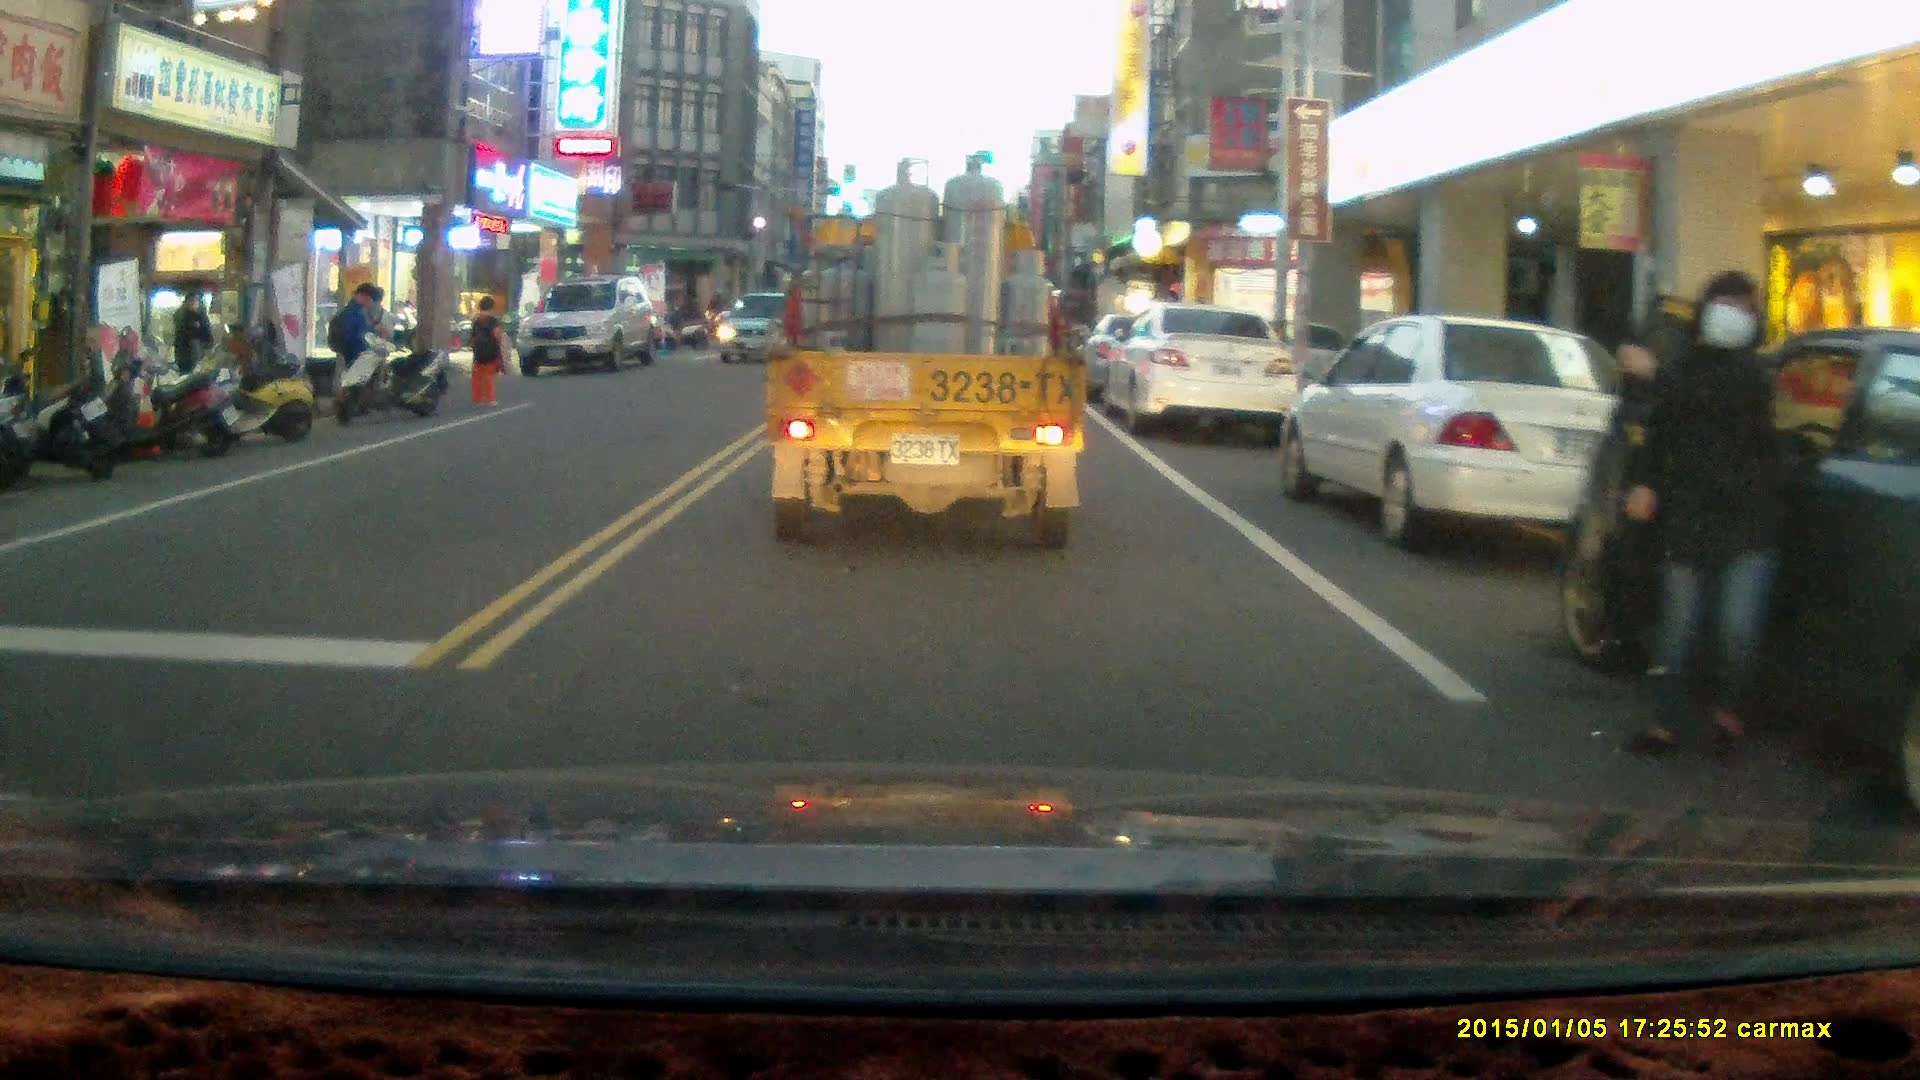pedestrian: (1615, 269, 1787, 765), (321, 279, 375, 411), (170, 285, 214, 422), (468, 292, 509, 409)
vehicle: (1554, 322, 1920, 792), (759, 151, 1091, 549), (1274, 314, 1677, 549), (1106, 304, 1298, 432), (519, 277, 666, 373), (715, 290, 808, 367)
